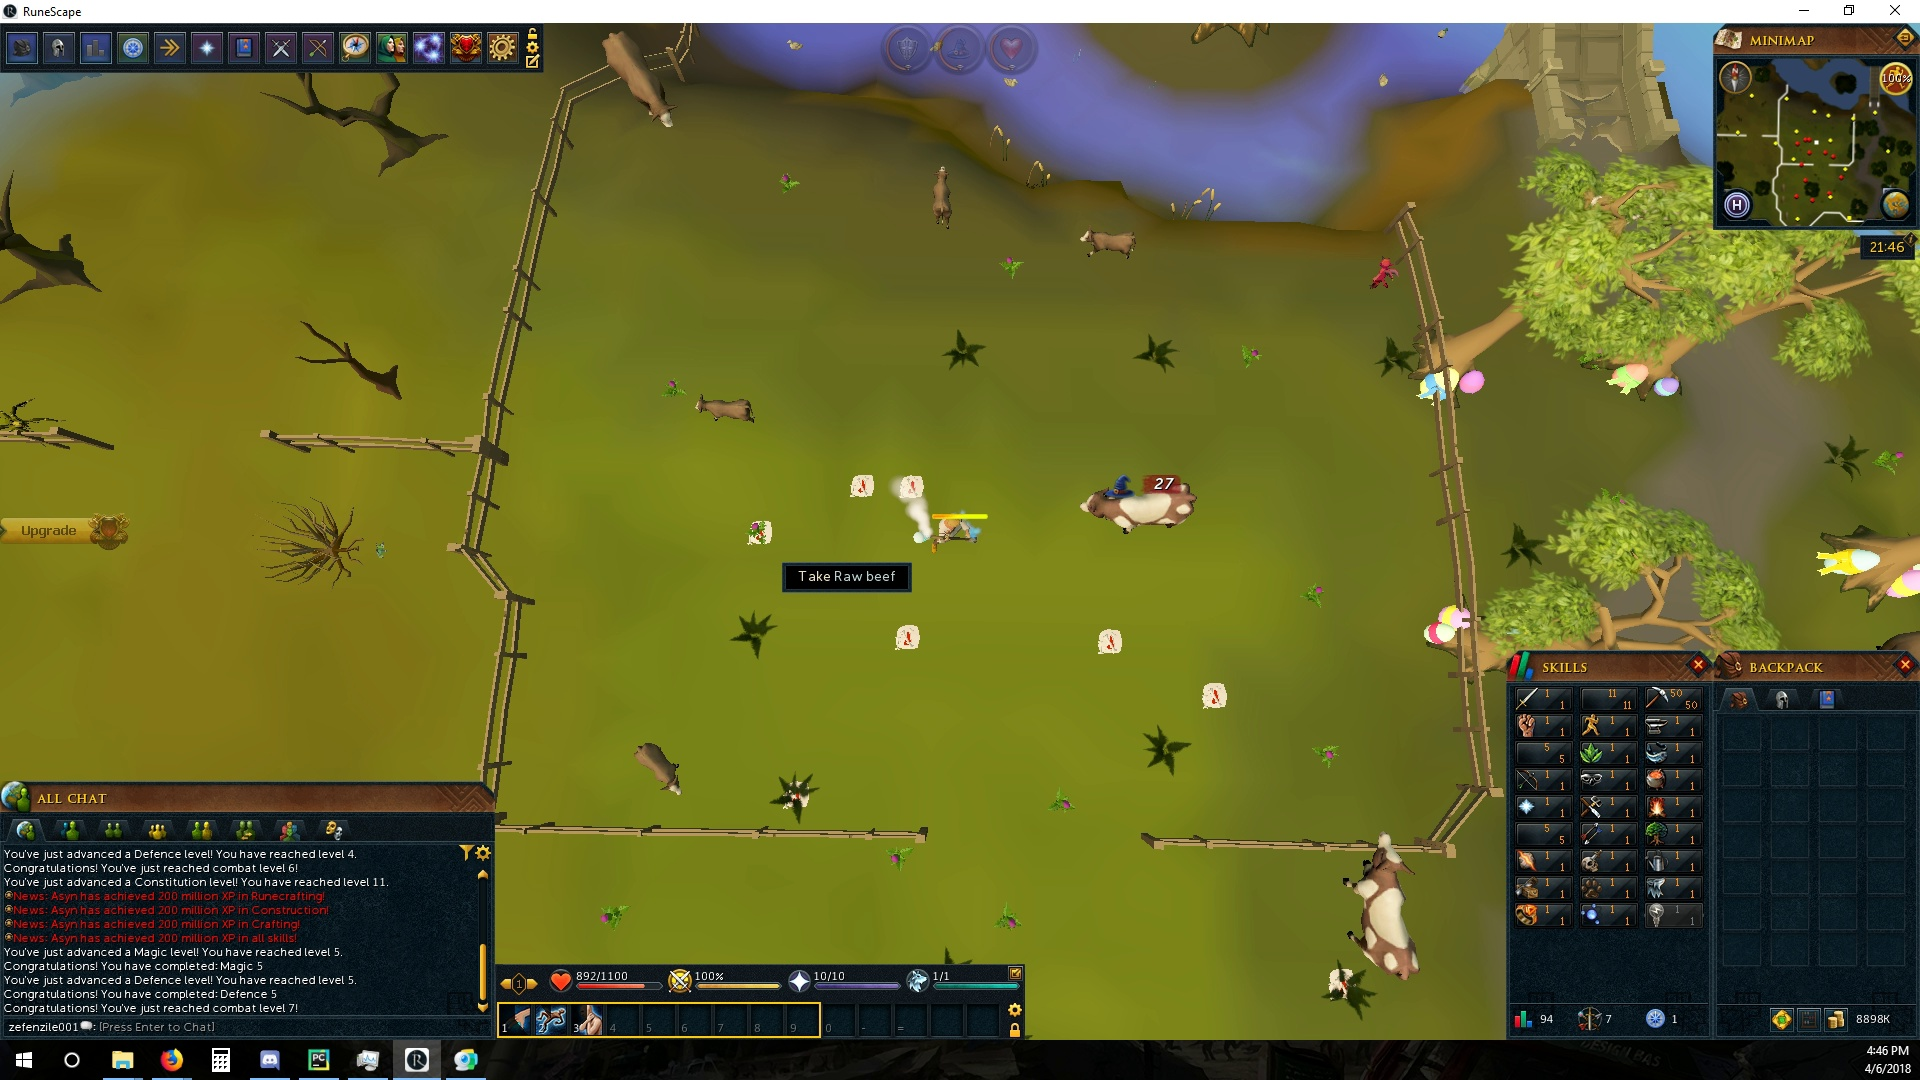calf: (633, 740, 684, 796), (691, 396, 761, 427), (1079, 224, 1139, 258), (928, 165, 955, 227)
cow: (1338, 831, 1424, 982), (593, 28, 676, 131), (1079, 479, 1197, 533)
cow_drop: (1321, 968, 1360, 1000), (891, 618, 923, 651), (1196, 680, 1229, 712), (1095, 626, 1126, 655), (745, 520, 775, 549), (845, 473, 877, 497), (901, 473, 928, 500)
